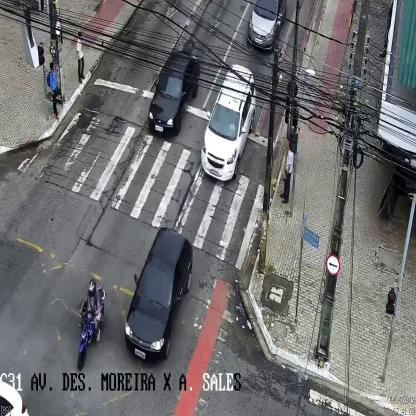car: (125, 226, 191, 364), (202, 65, 256, 184), (148, 51, 198, 139), (248, 1, 286, 54)
motorbike: (76, 280, 104, 373)
person: (280, 137, 293, 203), (50, 62, 59, 119), (76, 29, 85, 83)
